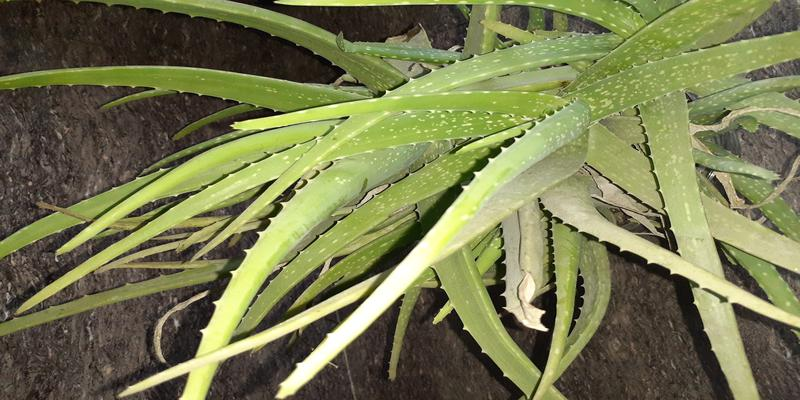Aloevera: (105, 32, 747, 313)
